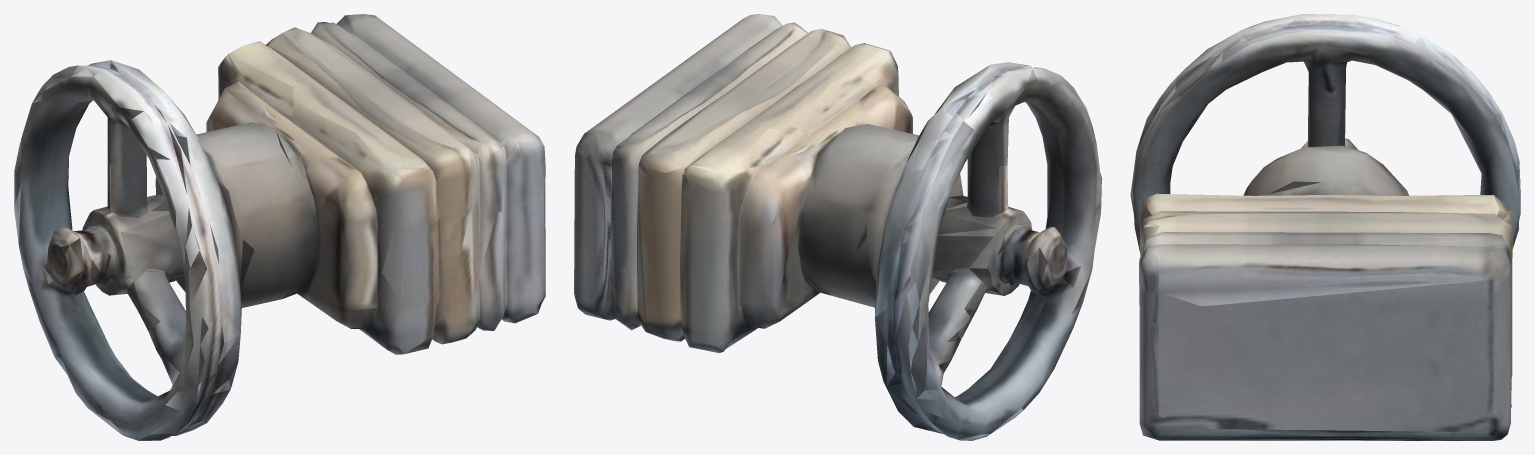
File: hangar_valve_wheel.glb
The picture shows the model from 3 angles, left to right: view 1: azimuth 30°, elevation 25°; view 2: azimuth 150°, elevation 25°; view 3: azimuth 270°, elevation 25°; orthographic projection. The views are drawn at different scales.
Visible parts, largest first — view 1: hangar_valve_wheel; view 2: hangar_valve_wheel; view 3: hangar_valve_wheel.
Boxes of the visible parts, <box> form: hangar_valve_wheel: <box>14,14,545,440</box>; hangar_valve_wheel: <box>574,14,1101,440</box>; hangar_valve_wheel: <box>1130,14,1520,440</box>.
Bounding box in the file's own units: 0.1054 × 0.0863 × 0.0858.
1 material, 1 textured.
